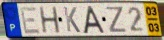2: (127, 6, 145, 33)
A: (82, 5, 107, 35)
E: (19, 6, 42, 35)
H: (38, 6, 62, 34)
K: (62, 6, 82, 35)
Z: (105, 6, 128, 34)
